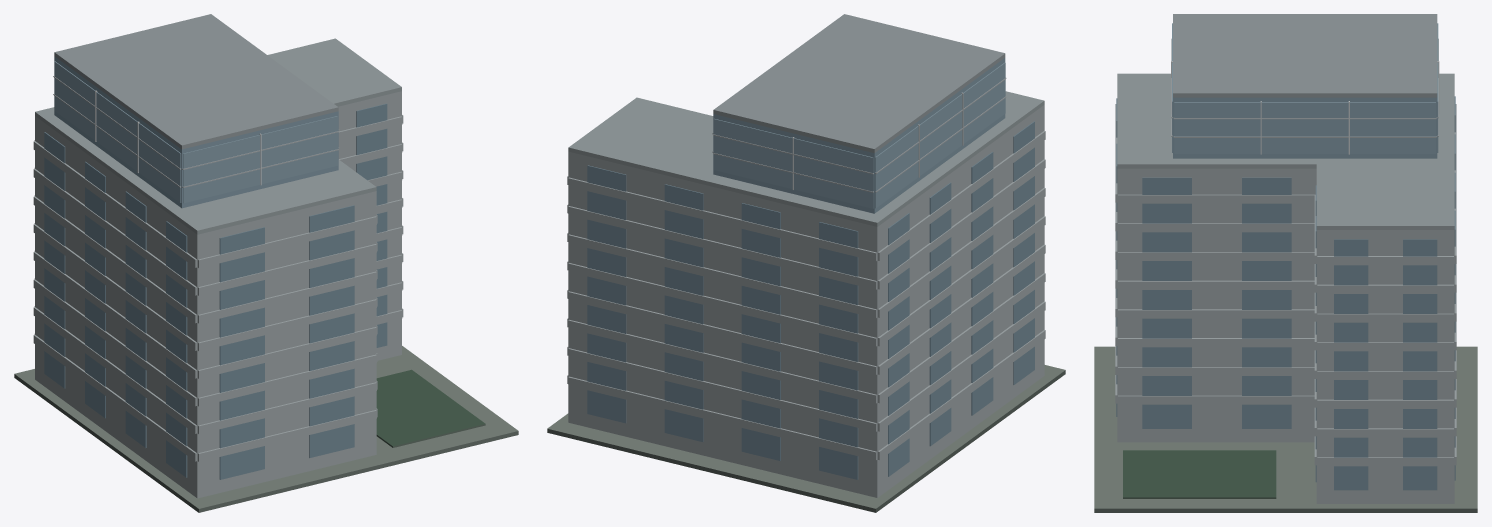
Rendered from generic-stepped.glb.
The picture shows the model from 3 angles, left to right: view 1: azimuth 30°, elevation 25°; view 2: azimuth 150°, elevation 25°; view 3: azimuth 270°, elevation 25°; orthographic projection. The views are drawn at different scales.
Visible parts, largest first — view 1: generic-stepped; view 2: generic-stepped; view 3: generic-stepped.
Part boxes in pixels (x1,y1,x2,y2): generic-stepped: (14,14,518,512); generic-stepped: (547,14,1065,512); generic-stepped: (1094,14,1477,512).
Bounding box in the file's own units: 1 × 1 × 1.
